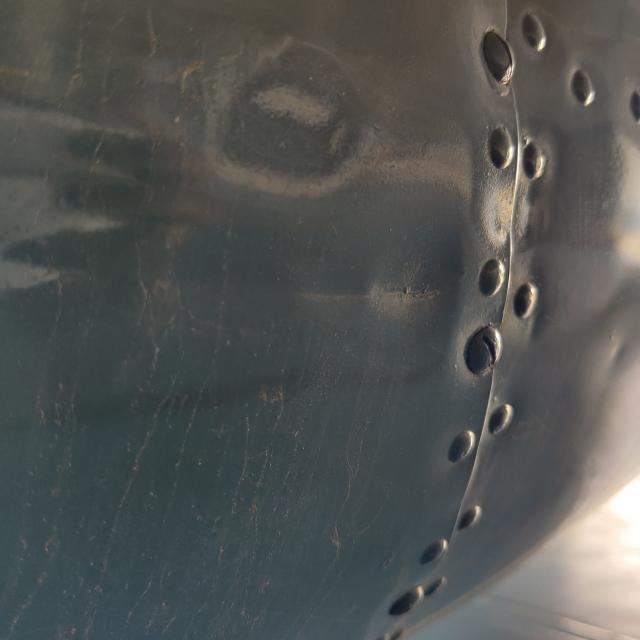dent: (177, 21, 401, 224), (346, 246, 463, 342)
